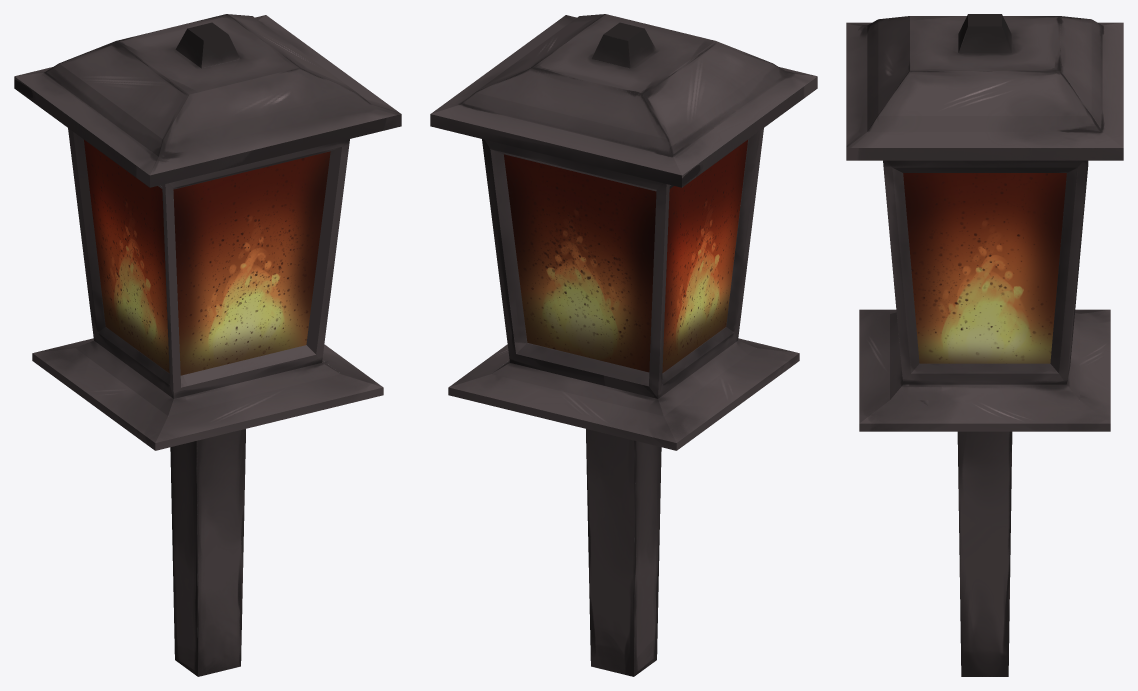
The model's file is Lantrn.fbx.
3 views of the same model, side by side, from view 1: azimuth 30°, elevation 25°; view 2: azimuth 150°, elevation 25°; view 3: azimuth 270°, elevation 25° (orthographic). The views are drawn at different scales.
Visible parts, largest first — view 1: pCube1; view 2: pCube1; view 3: pCube1.
Part boxes in pixels (<box>): pCube1: <box>14,14,401,676</box>; pCube1: <box>430,14,817,676</box>; pCube1: <box>846,14,1123,676</box>.
Bounding box in the file's own units: 4.87 × 11.68 × 4.54.
Materials: 2 (2 with a texture image).
